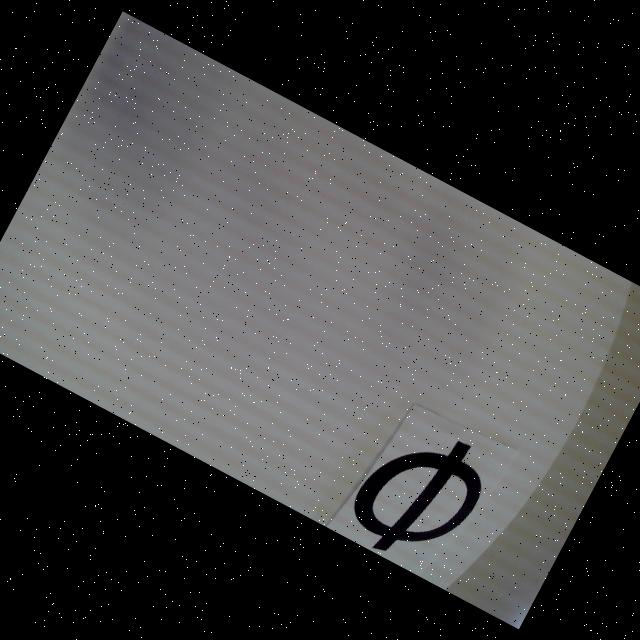PHI: (338, 409, 498, 582)
